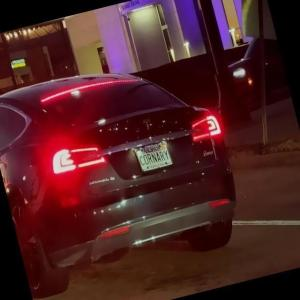Plate: (133, 140, 174, 173)
